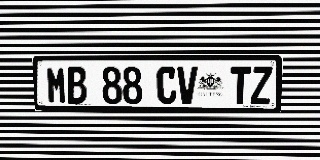8: (102, 66, 122, 104), (122, 66, 142, 104)
B: (66, 66, 87, 104)
C: (157, 66, 177, 104)
M: (46, 66, 67, 104)
T: (230, 66, 251, 104)
V: (177, 66, 197, 104)
Z: (251, 66, 272, 104)
